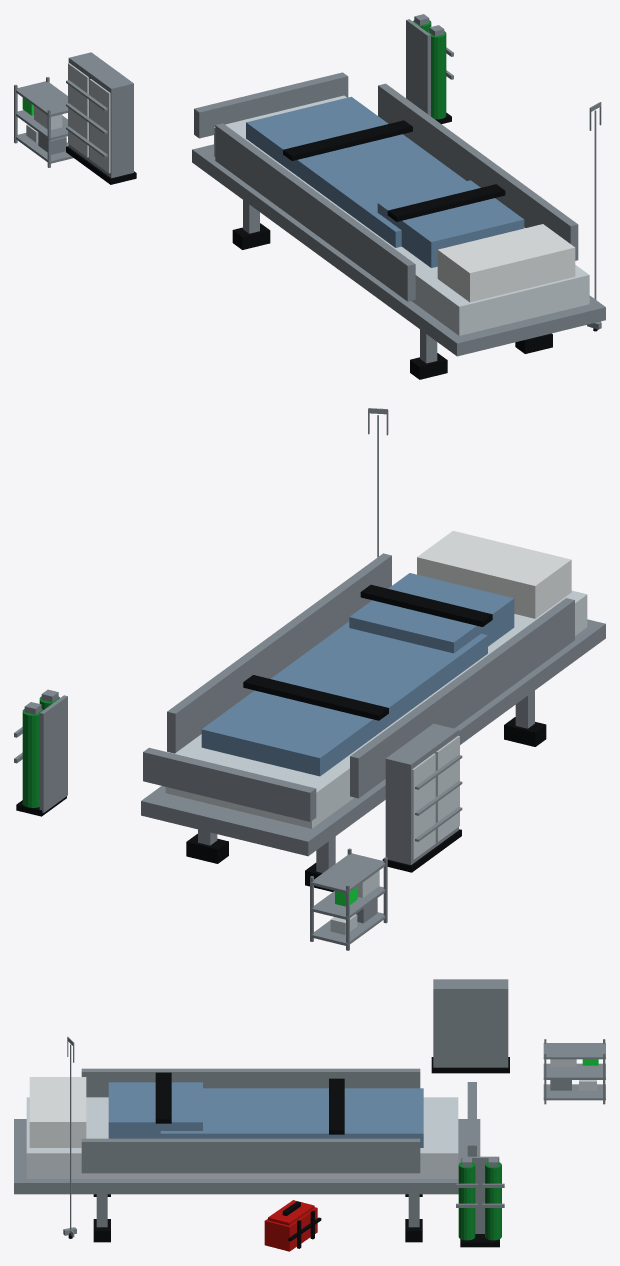
File: ambulance_runtime_equipment.obj
3 renders of one model, top to bottom at view 1: azimuth 30°, elevation 25°; view 2: azimuth 150°, elevation 25°; view 3: azimuth 270°, elevation 25°, orthographic. The views are drawn at different scales.
Visible parts, largest first — view 1: ambulance_runtime_equipment_ambulance_metal, ambulance_runtime_equipment_ambulance_blanket, ambulance_runtime_equipment_ambulance_pillow, ambulance_runtime_equipment_ambulance_mattress, ambulance_runtime_equipment_ambulance_dark, ambulance_runtime_equipment_ambulance_medical_plastic, ambulance_runtime_equipment_ambulance_oxygen; view 2: ambulance_runtime_equipment_ambulance_metal, ambulance_runtime_equipment_ambulance_blanket, ambulance_runtime_equipment_ambulance_pillow, ambulance_runtime_equipment_ambulance_dark, ambulance_runtime_equipment_ambulance_mattress, ambulance_runtime_equipment_ambulance_medical_plastic, ambulance_runtime_equipment_ambulance_oxygen; view 3: ambulance_runtime_equipment_ambulance_metal, ambulance_runtime_equipment_ambulance_blanket, ambulance_runtime_equipment_ambulance_mattress, ambulance_runtime_equipment_ambulance_dark, ambulance_runtime_equipment_ambulance_pillow, ambulance_runtime_equipment_ambulance_oxygen, ambulance_runtime_equipment_ambulance_red, ambulance_runtime_equipment_ambulance_medical_plastic.
Boxes of the visible parts, <box> form: ambulance_runtime_equipment_ambulance_metal: <box>14,14,605,363</box>; ambulance_runtime_equipment_ambulance_blanket: <box>246,96,524,267</box>; ambulance_runtime_equipment_ambulance_pillow: <box>437,224,575,302</box>; ambulance_runtime_equipment_ambulance_mattress: <box>214,95,589,335</box>; ambulance_runtime_equipment_ambulance_dark: <box>66,112,597,379</box>; ambulance_runtime_equipment_ambulance_medical_plastic: <box>26,63,110,173</box>; ambulance_runtime_equipment_ambulance_oxygen: <box>413,20,446,119</box>; ambulance_runtime_equipment_ambulance_metal: <box>14,408,605,950</box>; ambulance_runtime_equipment_ambulance_blanket: <box>201,573,514,776</box>; ambulance_runtime_equipment_ambulance_pillow: <box>417,530,571,618</box>; ambulance_runtime_equipment_ambulance_dark: <box>16,584,546,891</box>; ambulance_runtime_equipment_ambulance_mattress: <box>165,590,587,828</box>; ambulance_runtime_equipment_ambulance_medical_plastic: <box>330,735,459,934</box>; ambulance_runtime_equipment_ambulance_oxygen: <box>22,696,59,807</box>; ambulance_runtime_equipment_ambulance_metal: <box>14,979,605,1237</box>; ambulance_runtime_equipment_ambulance_blanket: <box>108,1082,423,1147</box>; ambulance_runtime_equipment_ambulance_mattress: <box>26,1097,458,1178</box>; ambulance_runtime_equipment_ambulance_dark: <box>68,1057,509,1248</box>; ambulance_runtime_equipment_ambulance_pillow: <box>29,1077,86,1147</box>; ambulance_runtime_equipment_ambulance_oxygen: <box>458,1162,501,1240</box>; ambulance_runtime_equipment_ambulance_red: <box>264,1200,317,1251</box>; ambulance_runtime_equipment_ambulance_medical_plastic: <box>550,1059,596,1090</box>.
Size of the model in its own units: 2.33 by 1.51 by 3.76.
